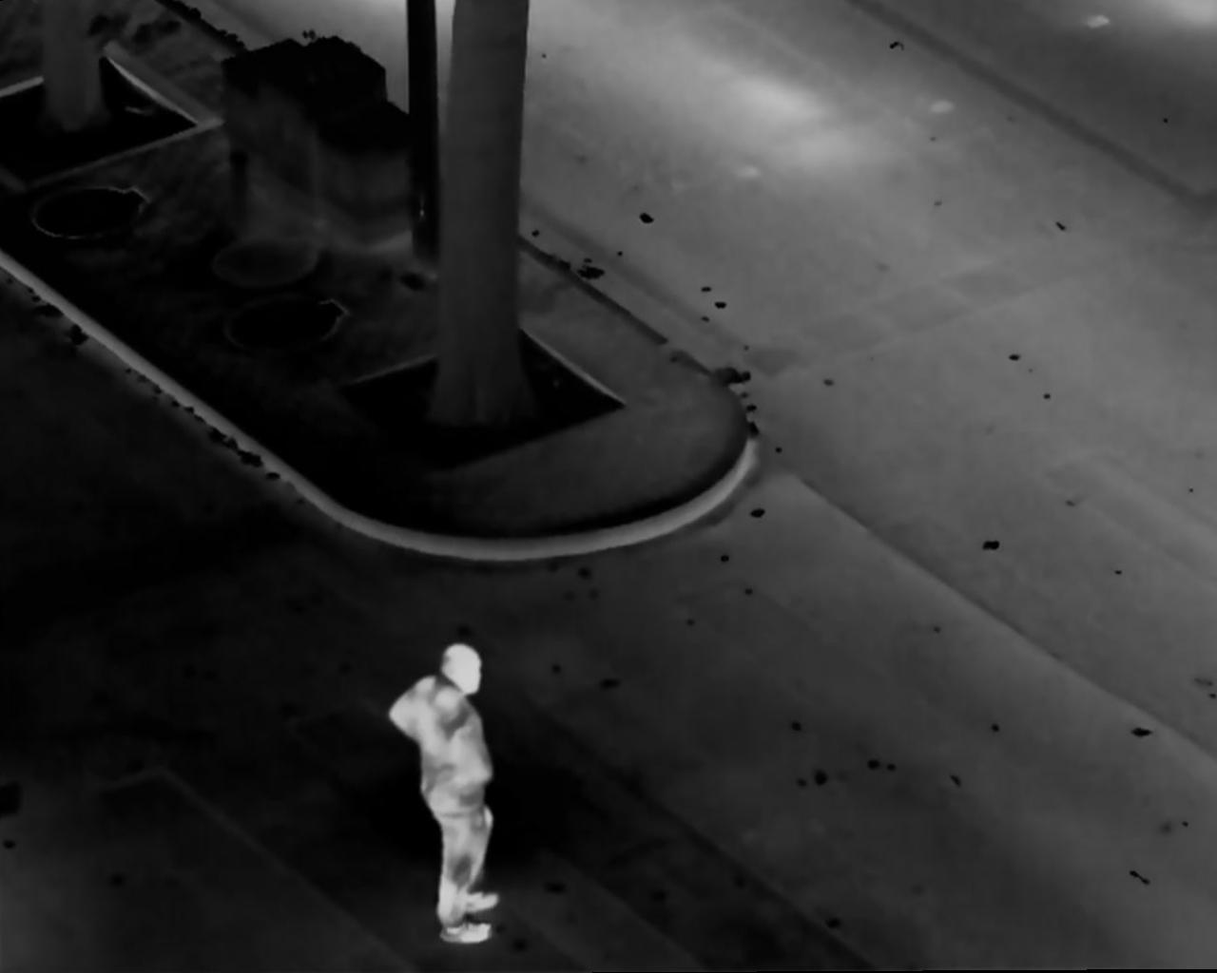person: (385, 640, 515, 951)
